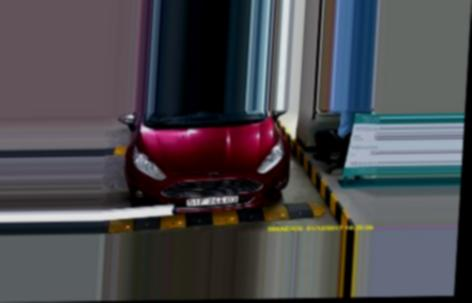License_Plate: (186, 195, 239, 207)
